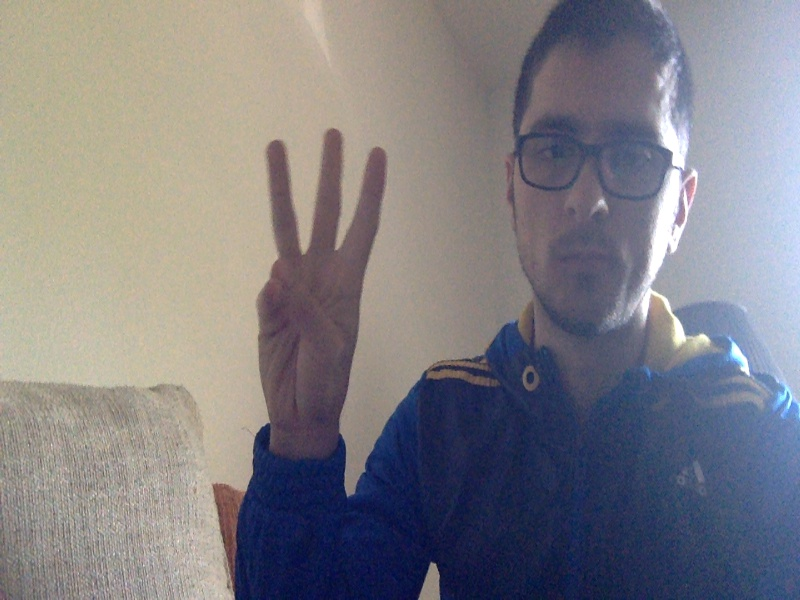3-hand: (255, 129, 389, 429)
